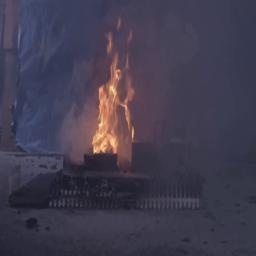fire: (96, 23, 137, 155)
